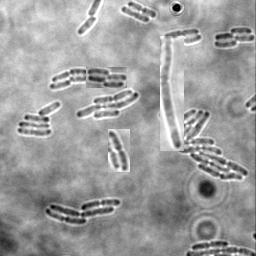Dividing: (160, 36, 184, 151), (108, 129, 130, 172), (128, 1, 157, 18), (52, 67, 86, 81), (166, 34, 202, 47), (164, 28, 200, 39), (192, 239, 229, 249)
Microcolony: (158, 109, 249, 180), (76, 88, 139, 119), (45, 199, 121, 224), (18, 101, 61, 136), (214, 27, 255, 48), (86, 67, 127, 88)
Rod: (121, 5, 150, 23), (78, 16, 99, 34), (50, 79, 72, 89), (69, 73, 86, 82)
